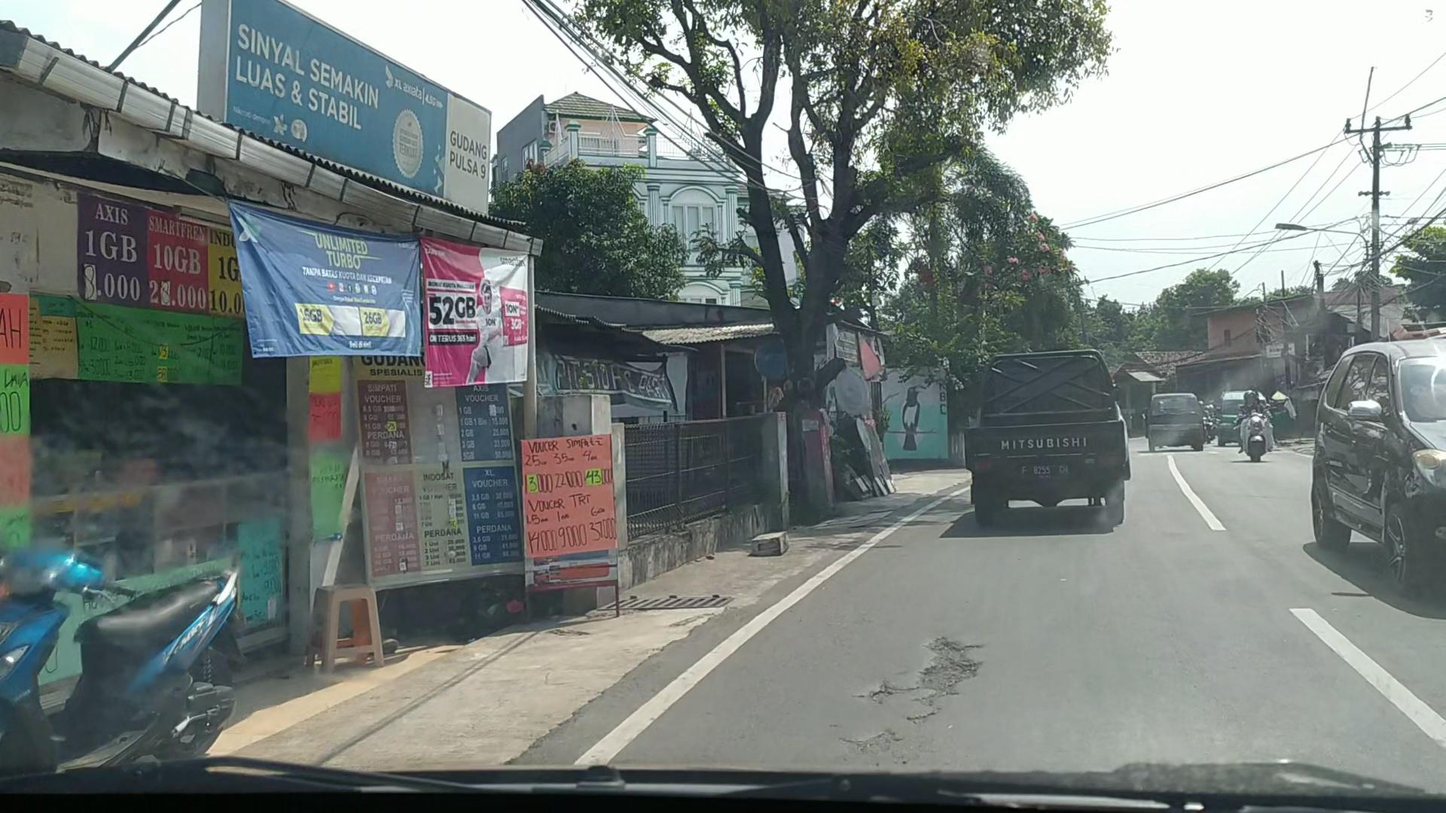pothole: (904, 632, 987, 726), (851, 677, 919, 705), (837, 726, 902, 755)
